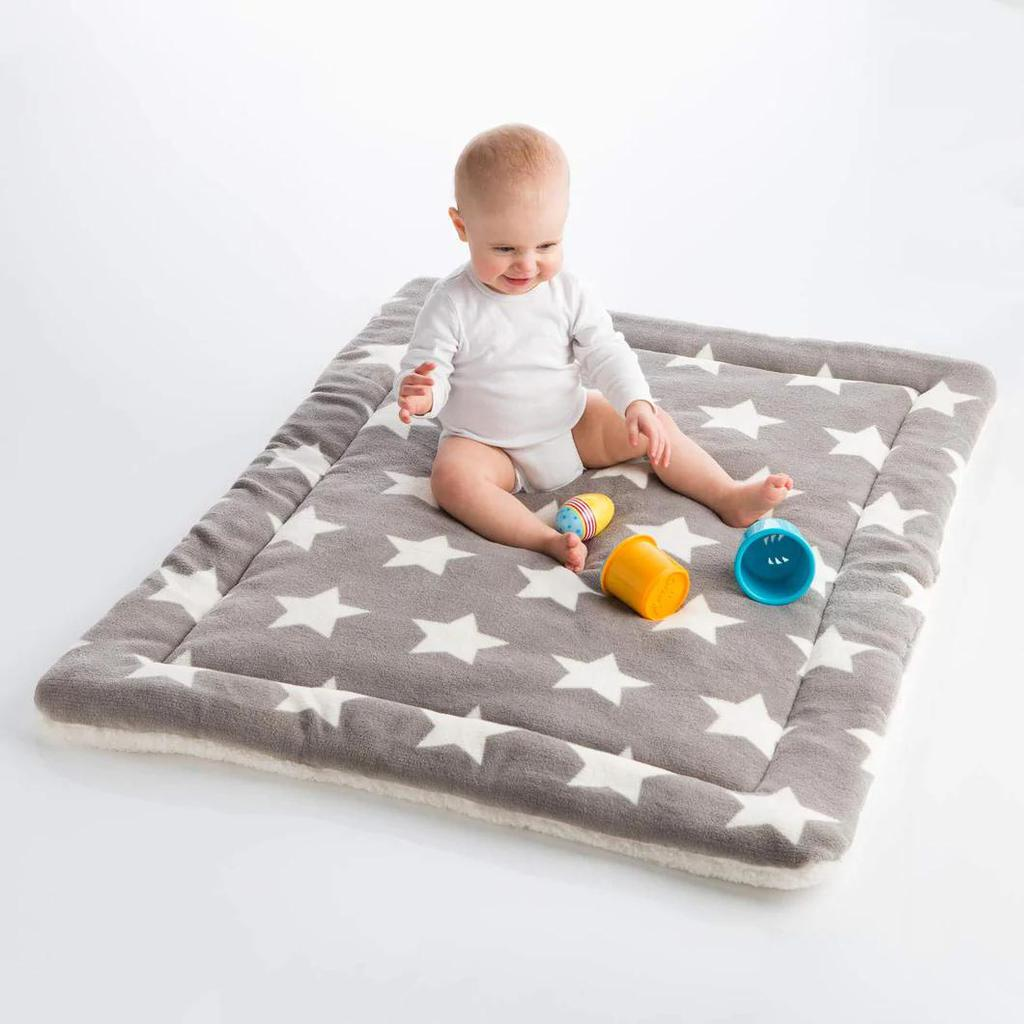child: (376, 116, 802, 565)
